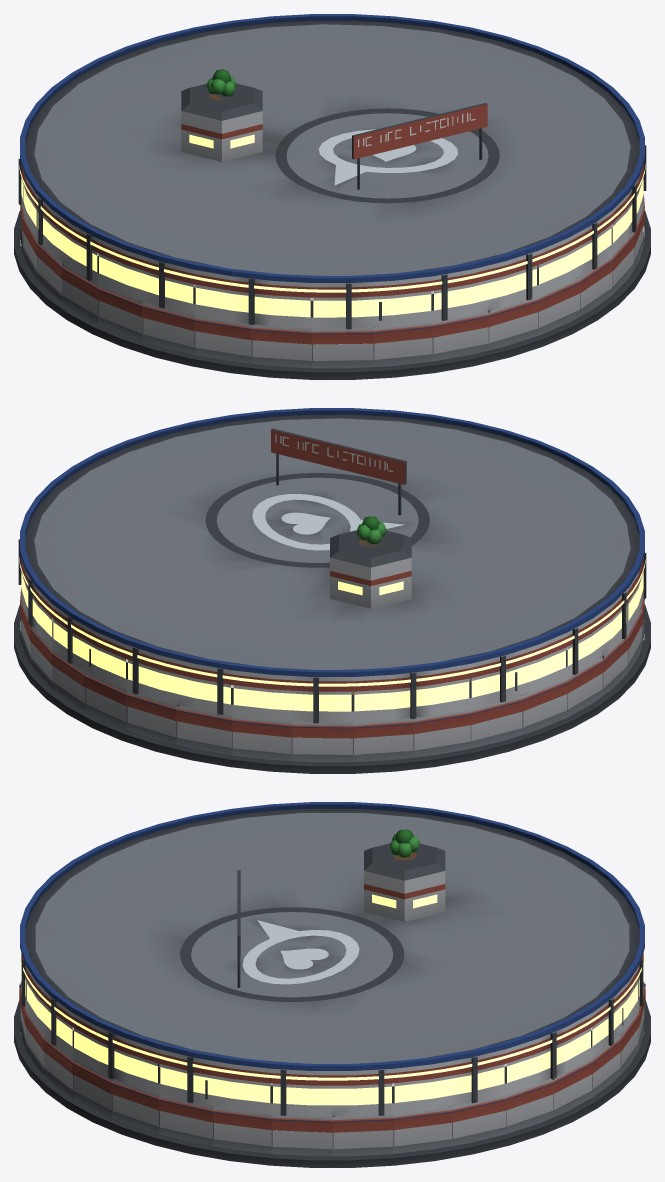
Rendered from hr_office_l_far.glb.
The picture shows the model from 3 angles, top to bottom: view 1: azimuth 30°, elevation 25°; view 2: azimuth 150°, elevation 25°; view 3: azimuth 270°, elevation 25°; orthographic projection.
Parts seen in each view (by area): view 1: Roof, Base; view 2: Roof, Base; view 3: Roof, Base.
Boxes of the visible parts, left/top/right/bottom form: Roof: left=18, top=14, right=646, bottom=329; Base: left=14, top=193, right=650, bottom=379; Roof: left=18, top=408, right=646, bottom=723; Base: left=14, top=587, right=650, bottom=773; Roof: left=19, top=802, right=645, bottom=1116; Base: left=14, top=979, right=650, bottom=1167.
Size of the model in its own units: 18.96 by 5.5 by 18.96.
